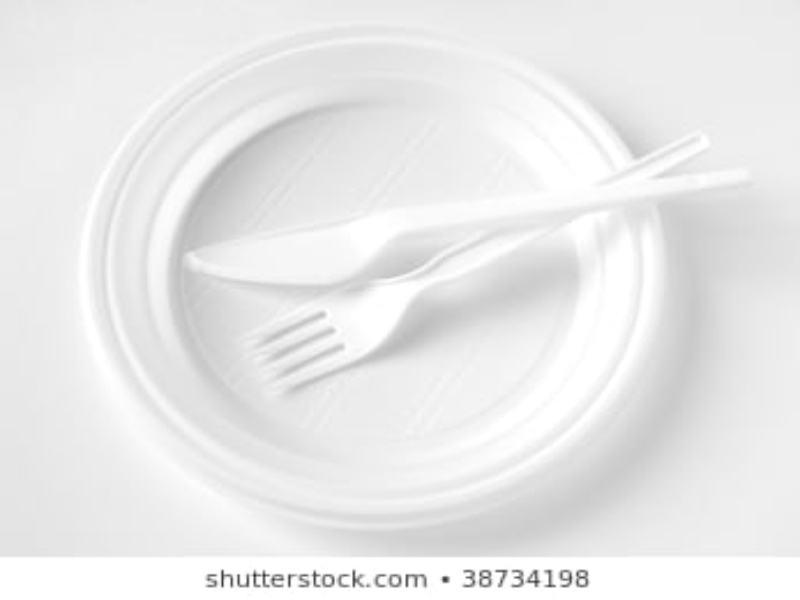plastic-plate: (74, 12, 672, 525)
plastic-silverware: (244, 123, 723, 395), (177, 156, 755, 289)
